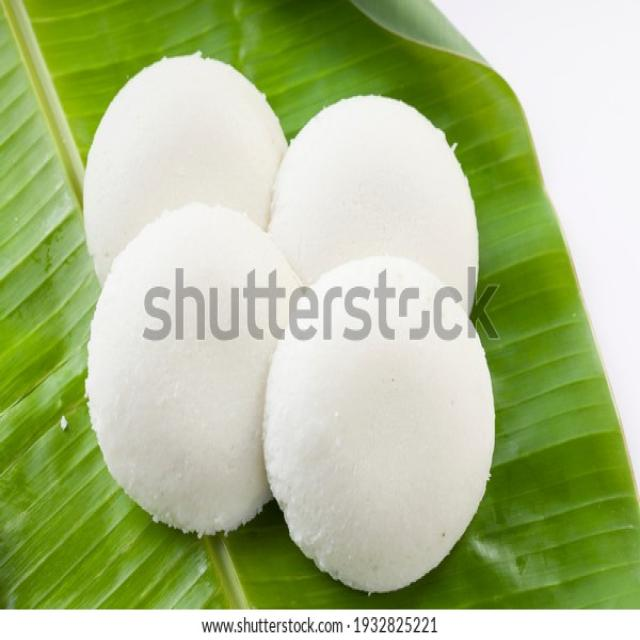IDLI: (258, 254, 495, 592), (83, 208, 300, 531), (83, 54, 289, 282), (265, 96, 476, 302)
